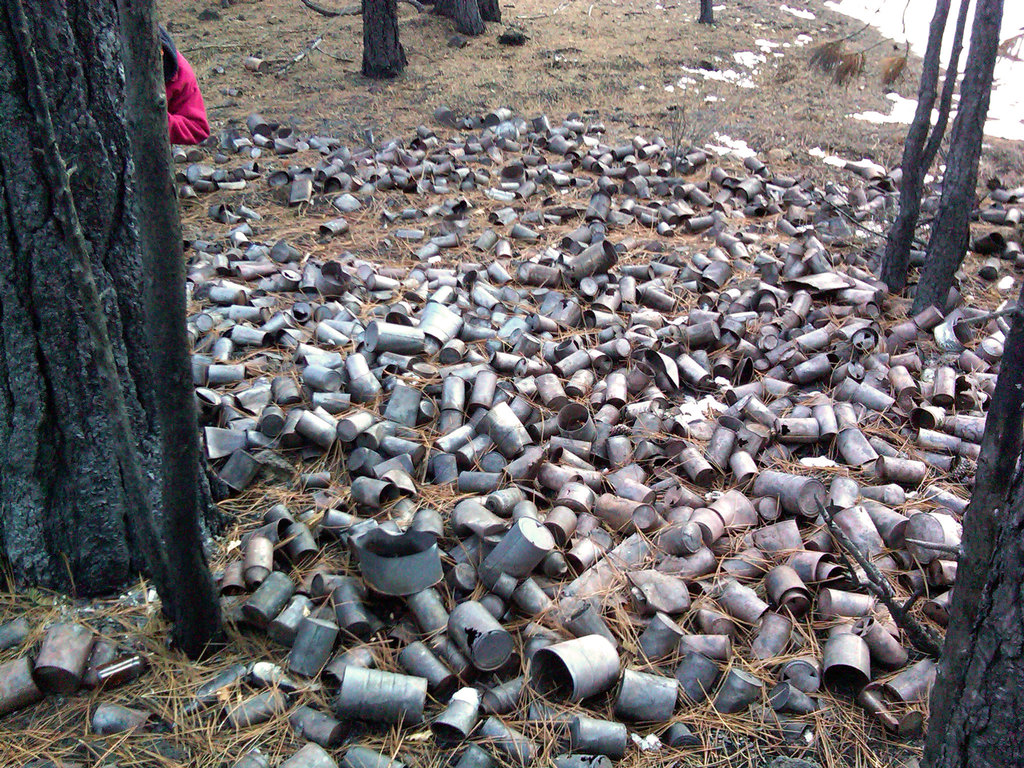Tree: (0, 0, 193, 661), (919, 280, 1024, 768), (880, 0, 1009, 313), (361, 0, 408, 77), (422, 0, 484, 39), (477, 0, 499, 18), (697, 0, 714, 22)
